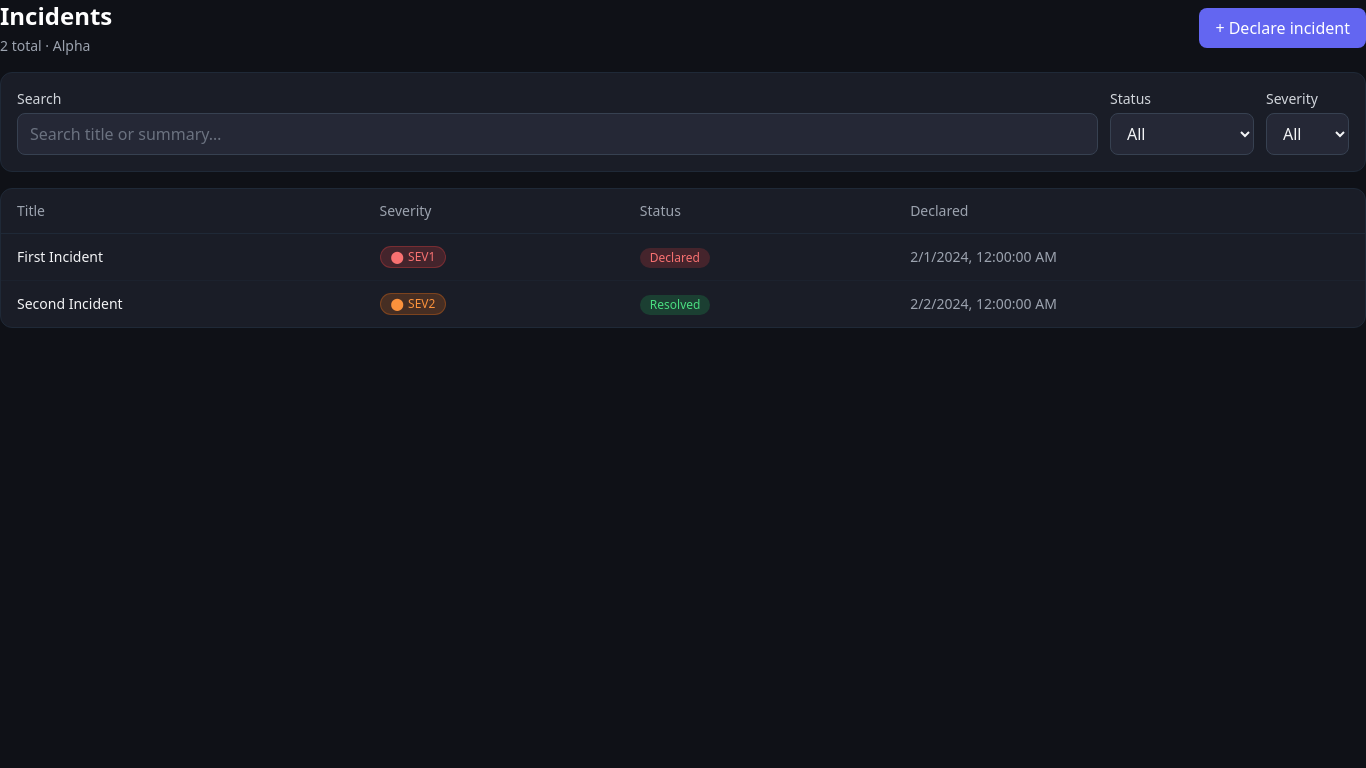
IncidentList › opens the declare incident modal
The image size is (1366, 768).
Expected: the link "First Incident" is shown, [17, 247, 103, 266]
Click the button "+ Declare incident" at (1283, 28), box [1199, 8, 1365, 48]
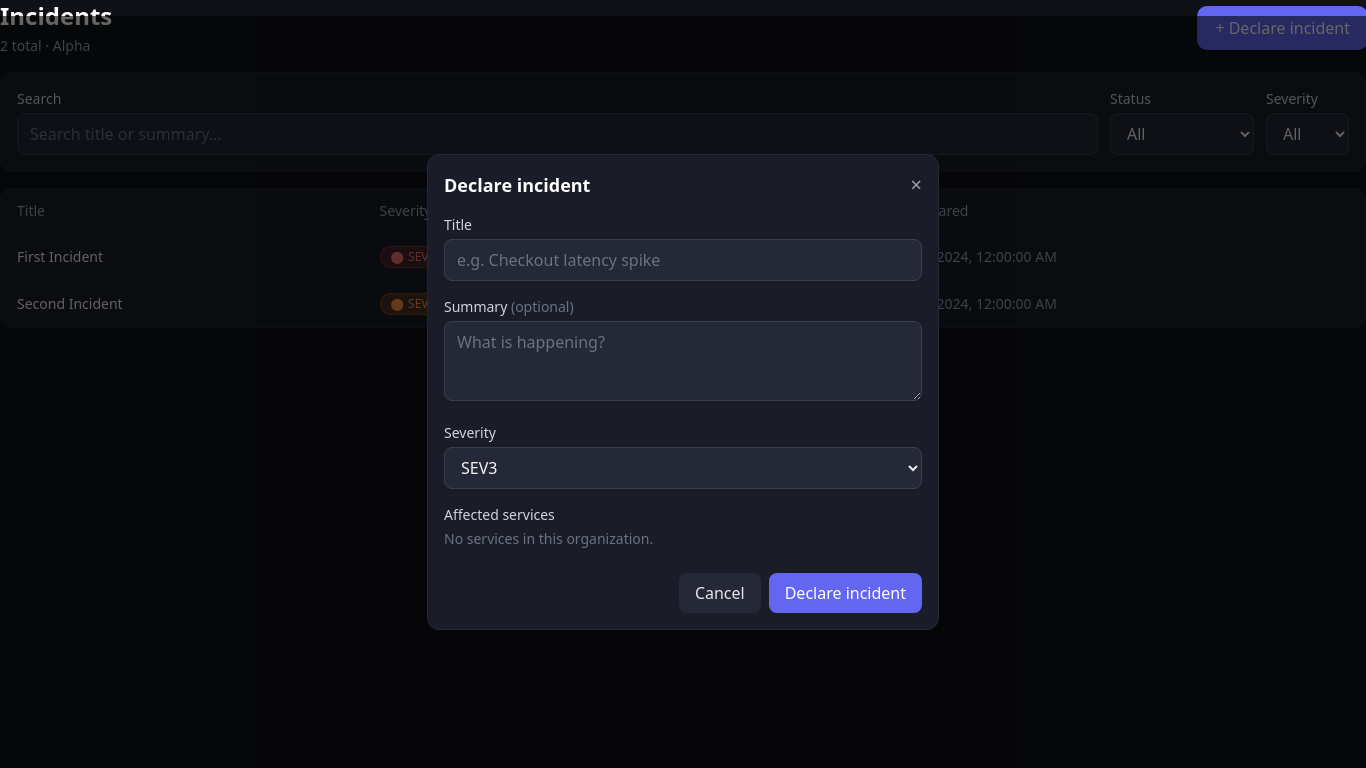
Expected: the dialog named "create new incident" is shown
